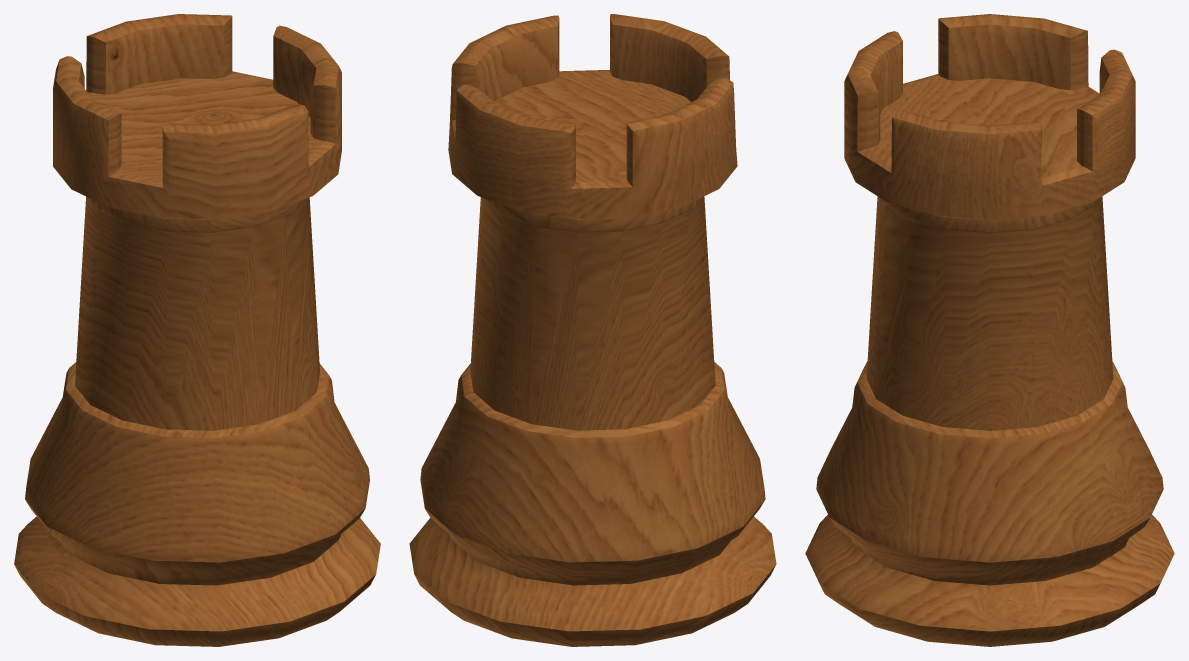
File: SM_WhiteRook.fbx
3 renders of one model, left to right at view 1: azimuth 30°, elevation 25°; view 2: azimuth 150°, elevation 25°; view 3: azimuth 270°, elevation 25°, orthographic.
Parts seen in each view (by area): view 1: SM_WhiteRook; view 2: SM_WhiteRook; view 3: SM_WhiteRook.
Boxes of the visible parts, box(x1,y1,x2,y2) form: SM_WhiteRook: box(14, 14, 380, 646); SM_WhiteRook: box(409, 14, 776, 646); SM_WhiteRook: box(805, 14, 1174, 646).
Size of the model in its own units: 8.08 by 12.24 by 8.08.
